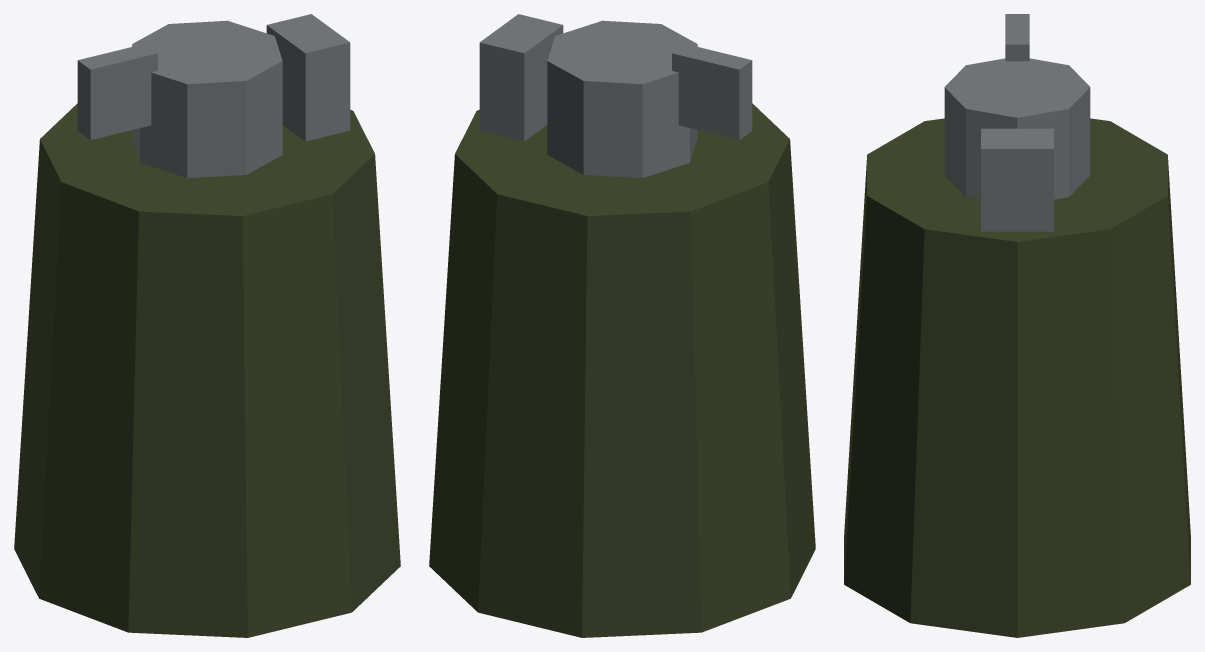
Rendered from prop_grenade_frag.glb.
The picture shows the model from 3 angles, left to right: view 1: azimuth 30°, elevation 25°; view 2: azimuth 150°, elevation 25°; view 3: azimuth 270°, elevation 25°; orthographic projection. The views are drawn at different scales.
Parts seen in each view (by area): view 1: prop_grenade_frag; view 2: prop_grenade_frag; view 3: prop_grenade_frag.
Part boxes in pixels (bbox=[...]): prop_grenade_frag: bbox=[14, 14, 400, 637]; prop_grenade_frag: bbox=[429, 14, 815, 637]; prop_grenade_frag: bbox=[844, 14, 1190, 637].
Bounding box in the file's own units: 0.06 × 0.089 × 0.0571.
